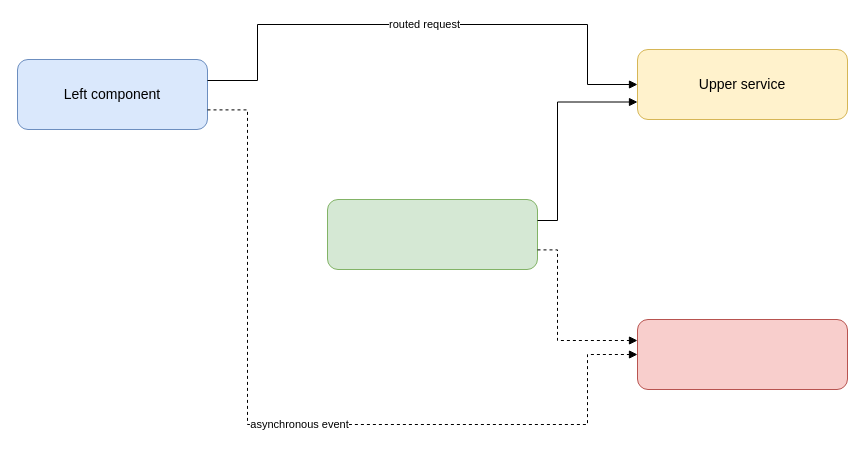
Image size: 865x450. Some labels were removed from this diagram. The shapes that lost their labels are listed below. From the top down, each one's centre as x and y in pixels, then its label:
pixel 432 234: Runtime
pixel 742 354: Lower integration
